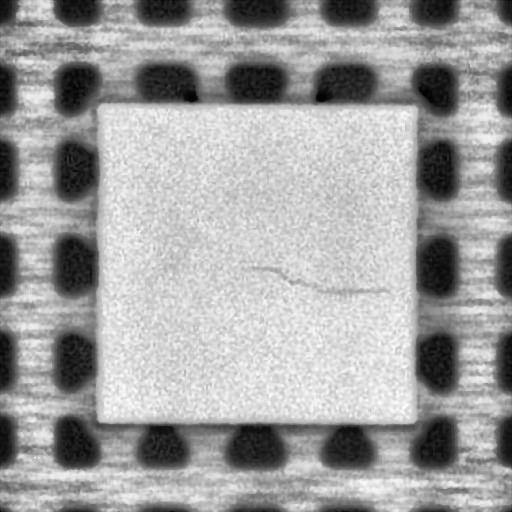DIE_CRACK: (248, 262, 390, 293)
